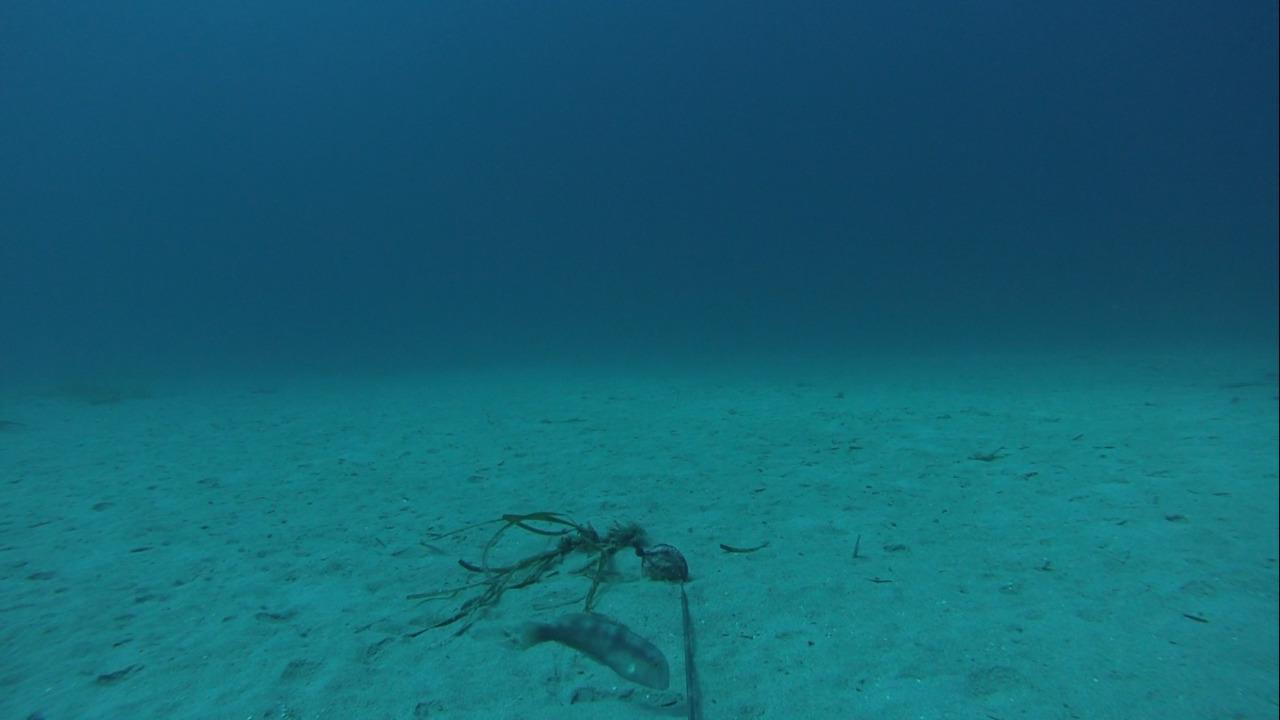raor: (510, 608, 675, 697)
